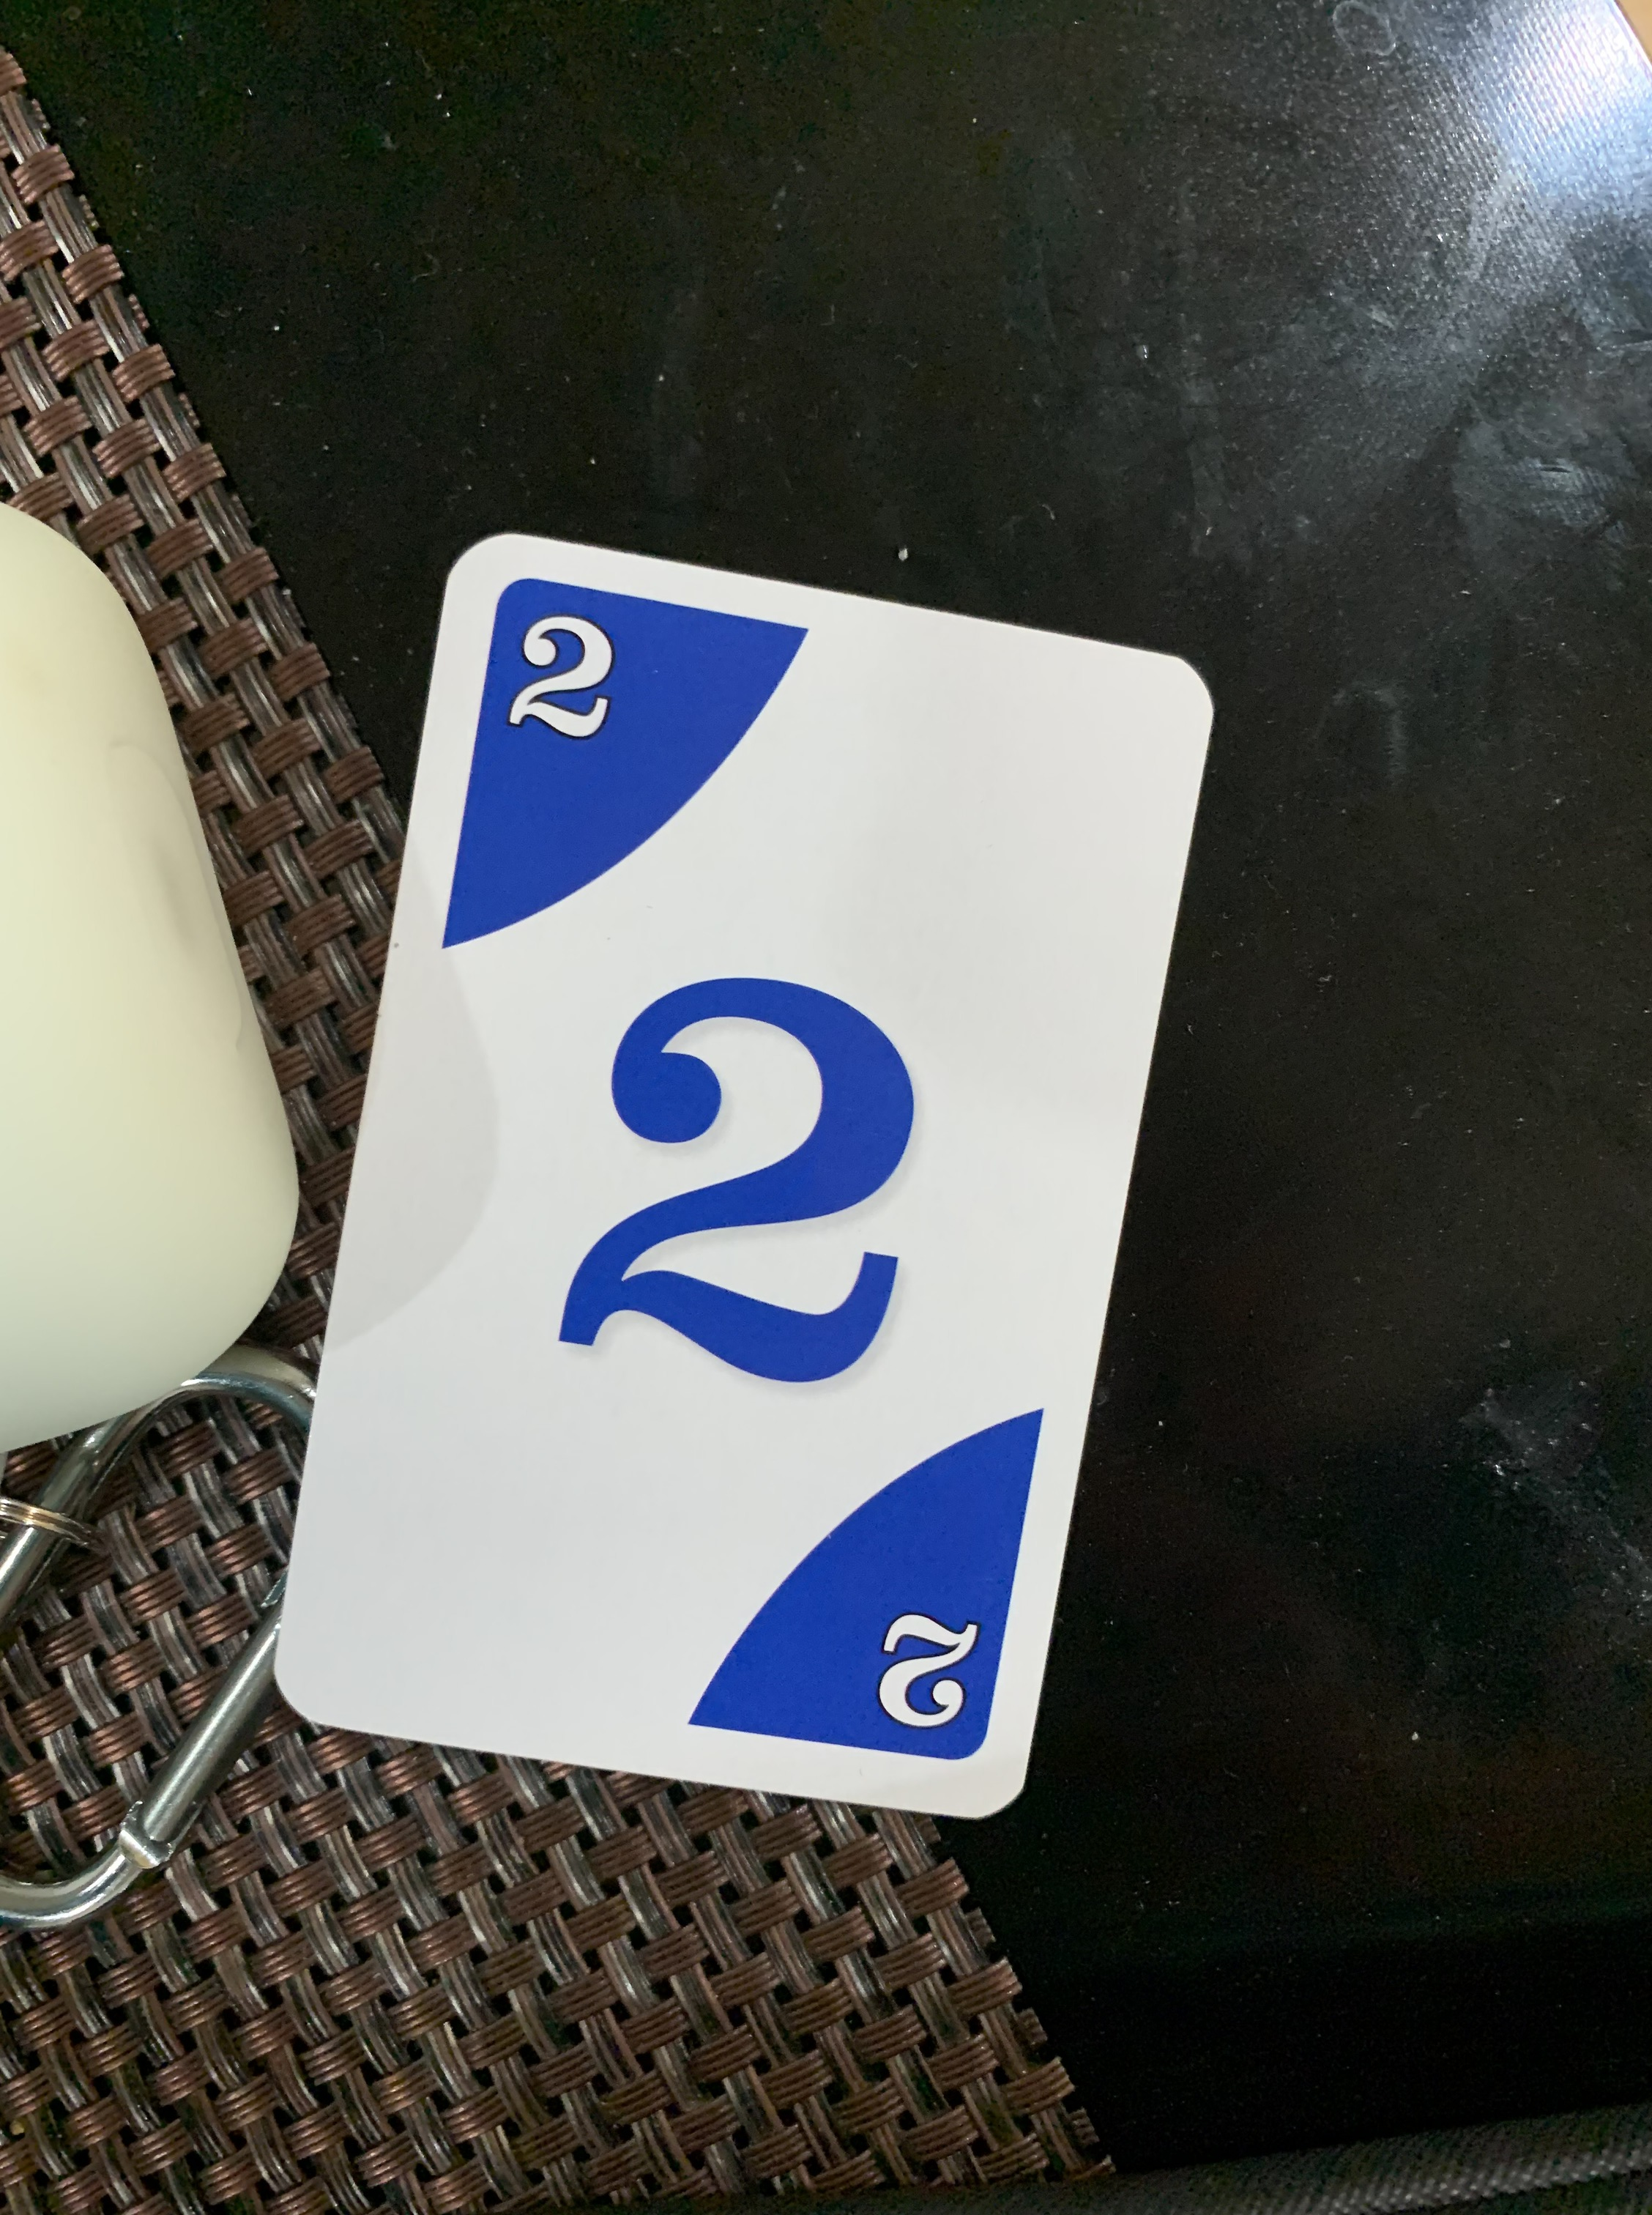two: (257, 498, 1232, 1840)
